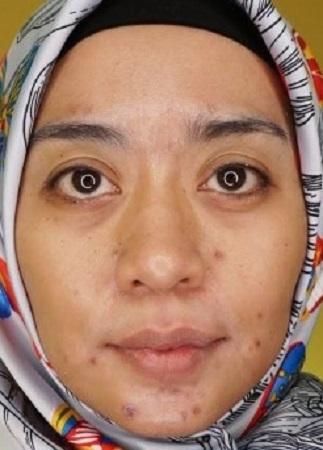bekas: (121, 402, 141, 420), (189, 402, 204, 417), (210, 248, 225, 262), (64, 103, 79, 117), (87, 353, 101, 367), (169, 383, 182, 398), (252, 336, 265, 350), (178, 407, 190, 422), (254, 308, 267, 321), (156, 382, 170, 393), (60, 351, 70, 365), (84, 103, 96, 114)
